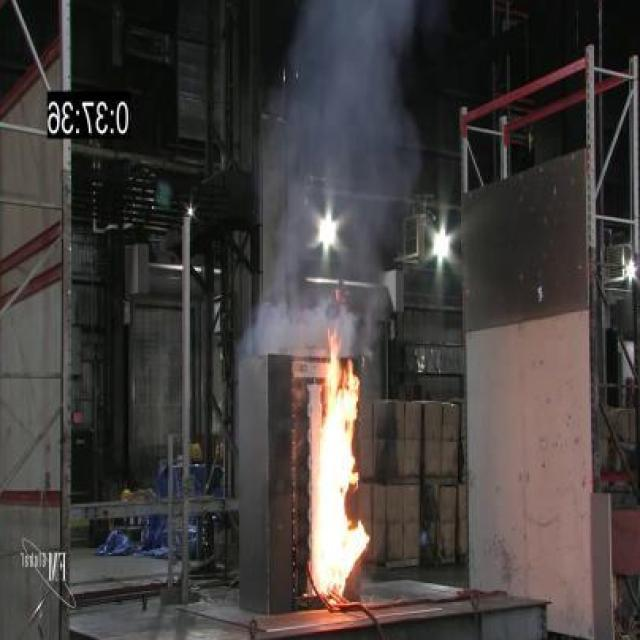fire: (263, 0, 426, 298)
smoke: (300, 324, 373, 603)
